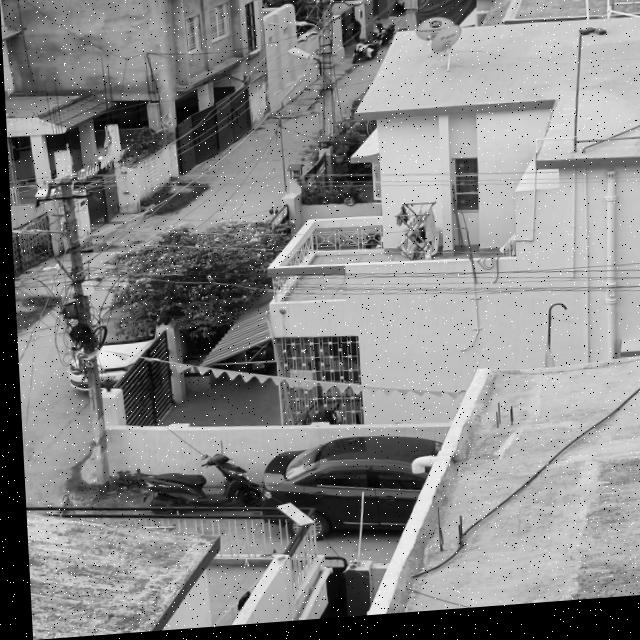bike: (128, 448, 257, 520), (349, 40, 381, 74)
car: (250, 432, 446, 546), (58, 309, 162, 398)
